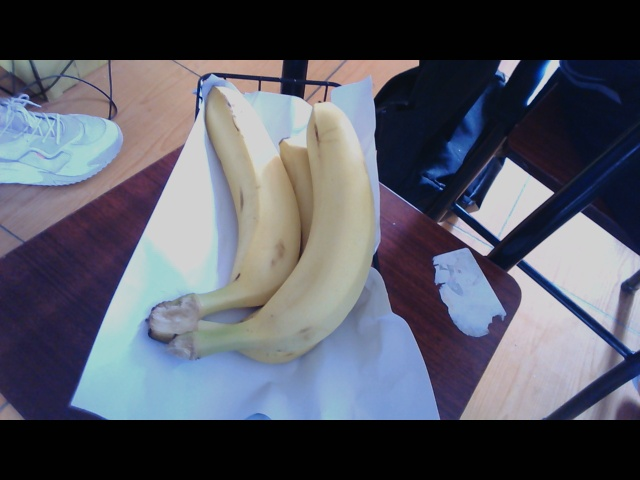banana: (192, 90, 381, 393)
